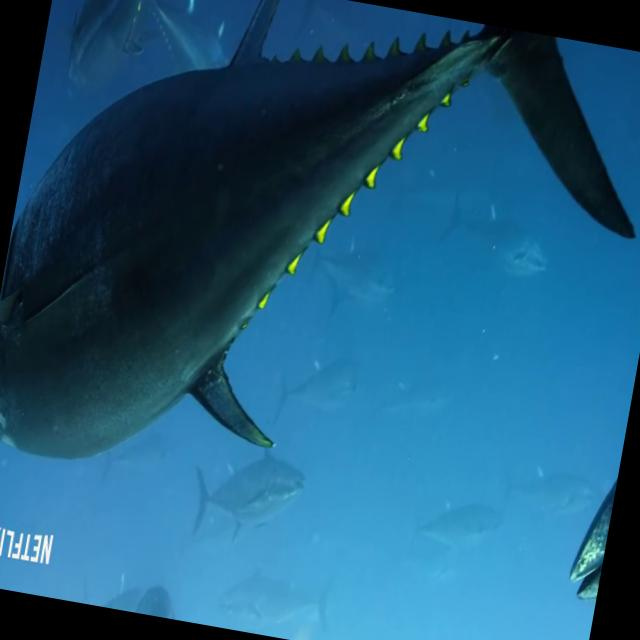fish: (0, 0, 640, 559), (178, 402, 324, 564), (45, 0, 164, 116), (139, 0, 250, 99), (562, 468, 618, 620)
